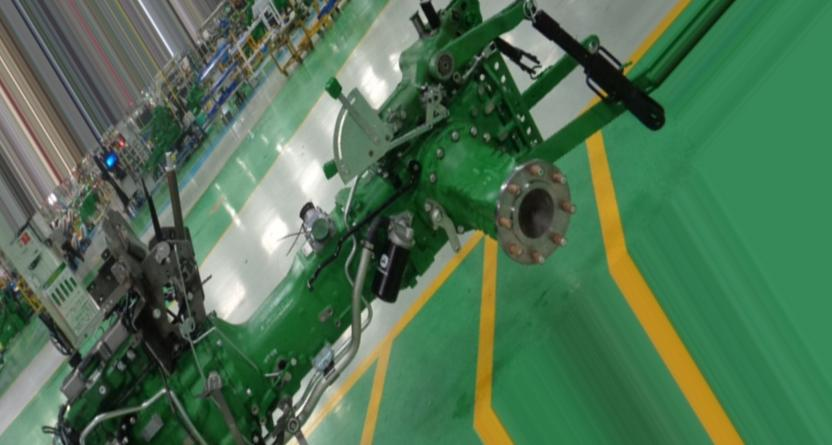engine: (0, 0, 659, 445)
